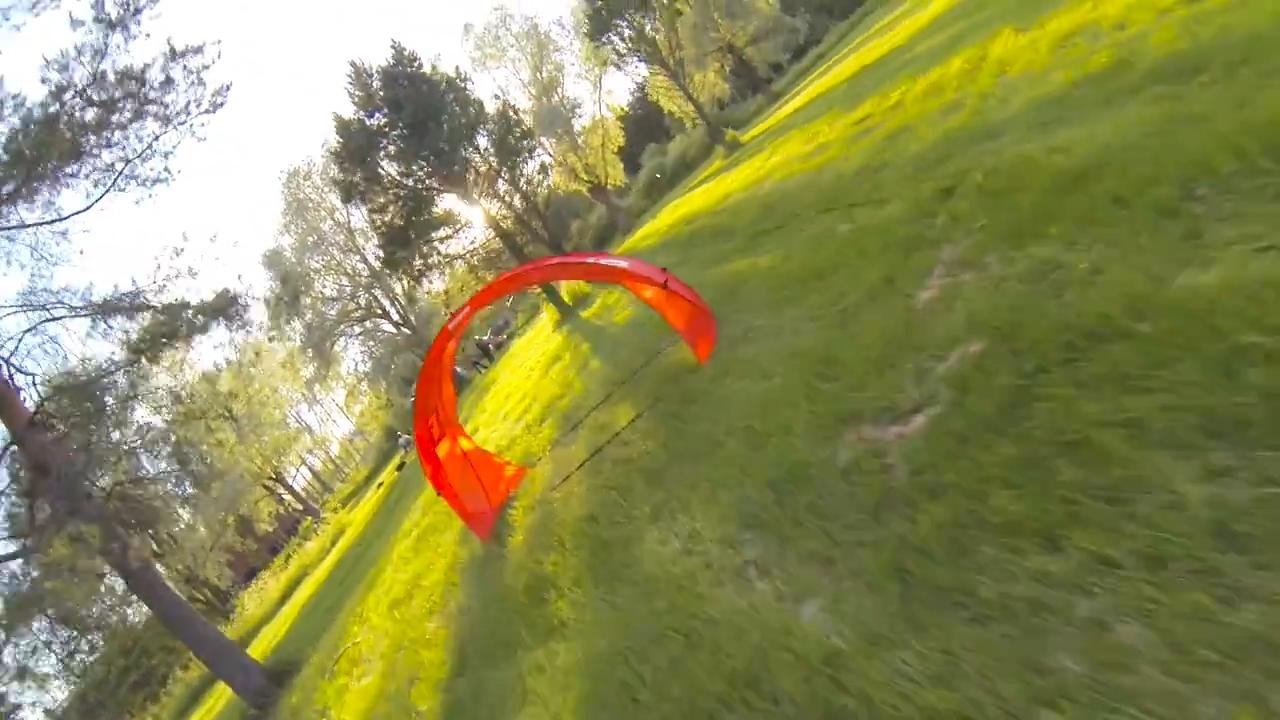gate: (412, 248, 719, 537)
